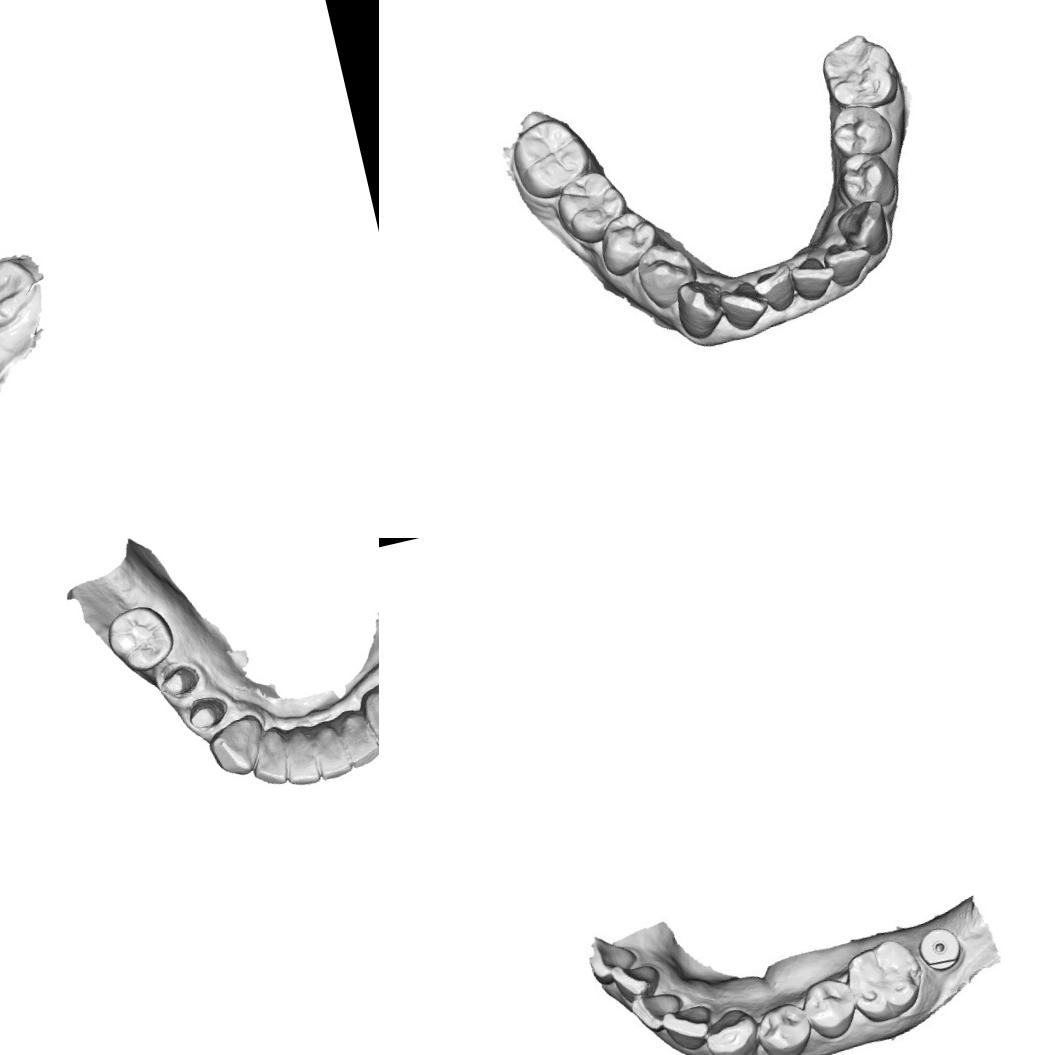canine: (204, 710, 273, 782), (832, 196, 895, 264), (671, 274, 730, 344), (701, 1006, 765, 1055), (357, 679, 379, 752)
crown: (182, 690, 232, 734), (153, 662, 205, 702)
implant: (916, 924, 967, 974)
incisor: (243, 724, 298, 791), (750, 258, 806, 322), (276, 724, 327, 790), (716, 276, 772, 336), (605, 952, 666, 1002), (308, 719, 355, 783), (335, 705, 379, 771), (820, 237, 872, 291), (788, 252, 840, 304), (662, 1005, 712, 1052), (632, 990, 682, 1030)
molar: (505, 108, 600, 202), (813, 24, 906, 120), (840, 938, 922, 1028), (100, 599, 181, 679), (0, 252, 45, 337)
premolar: (548, 164, 636, 250), (630, 234, 701, 314), (824, 95, 899, 166), (834, 146, 903, 218), (592, 210, 660, 280), (803, 976, 861, 1040), (757, 1000, 815, 1055)
